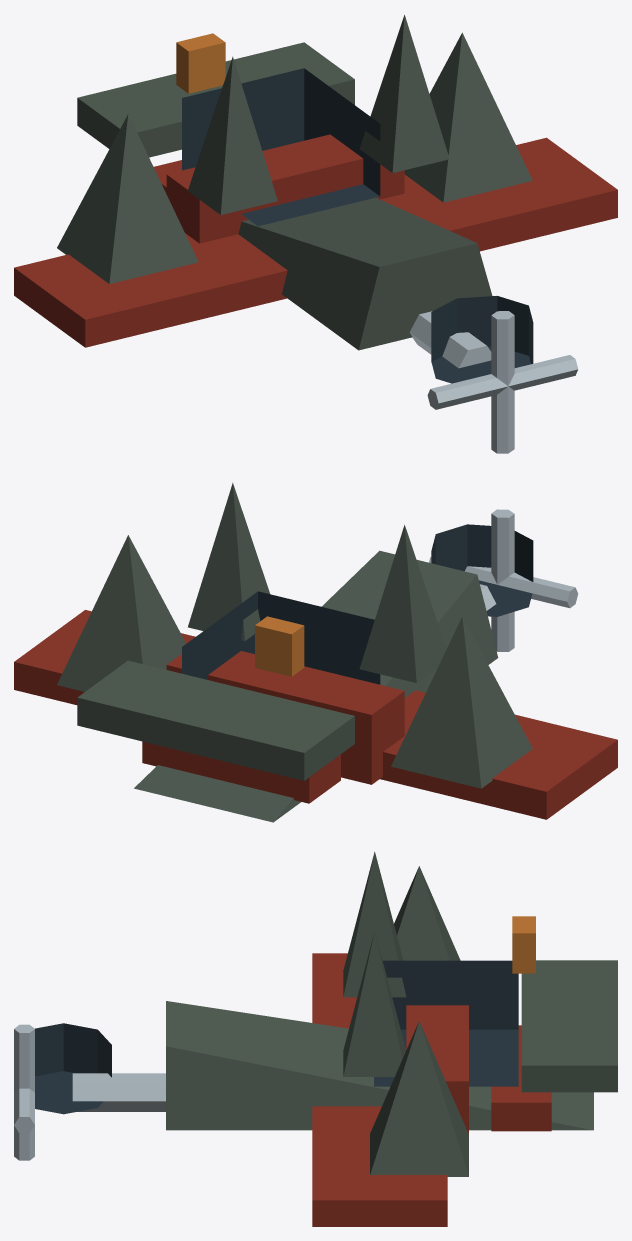
Rendered from interceptor.obj.
3 renders of one model, top to bottom at view 1: azimuth 30°, elevation 25°; view 2: azimuth 150°, elevation 25°; view 3: azimuth 270°, elevation 25°, orthographic. The views are drawn at different scales.
Visible parts, largest first — view 1: air; view 2: air; view 3: air.
Boxes of the visible parts, box(x1,y1,x2,y2) form: air: box(14, 15, 617, 453); air: box(14, 482, 617, 822); air: box(14, 851, 617, 1226).
Size of the model in its own units: 2.23 by 1.12 by 2.31.
